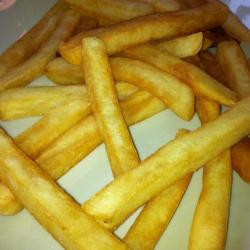fries: (47, 6, 236, 227)
